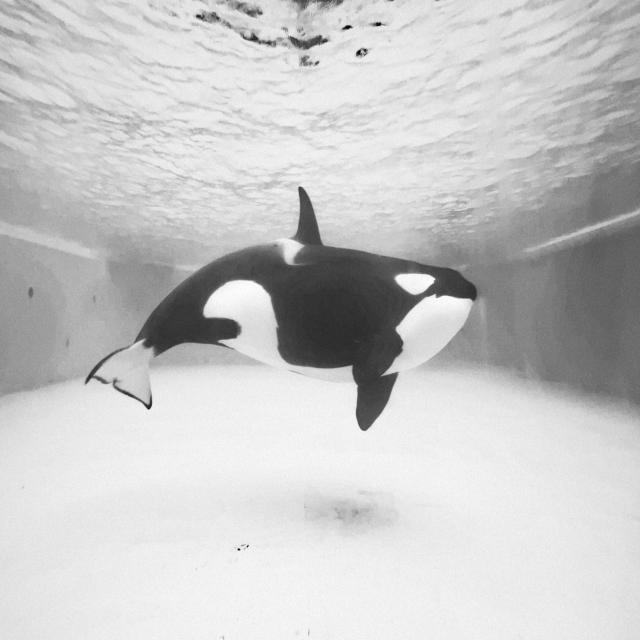ballena: (85, 187, 476, 431)
